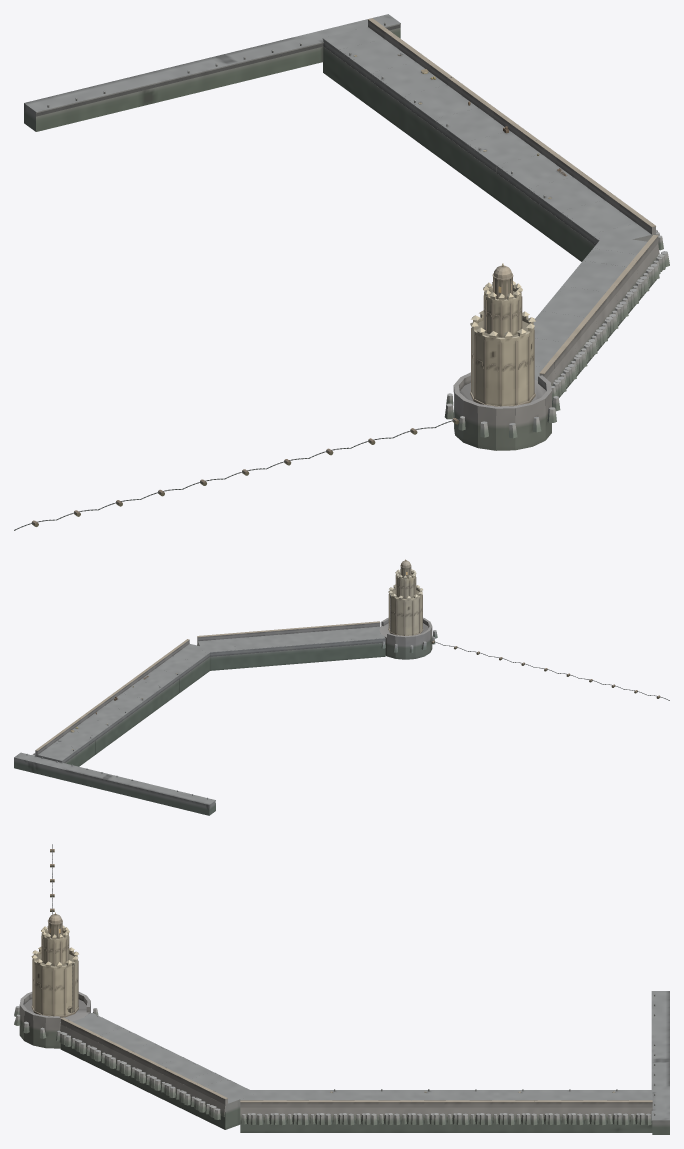
File: mole.glb
3 renders of one model, top to bottom at view 1: azimuth 30°, elevation 25°; view 2: azimuth 150°, elevation 25°; view 3: azimuth 270°, elevation 25°, orthographic. The views are drawn at different scales.
Parts seen in each view (by area): view 1: mole_head.001, gold_stage_1.001, gold_stage_2.001, mole_8.016, mole_8.008, mole_8.018, mole_8.006, mole_8.012, mole_8.004, mole_8.014, mole_8.010, mole_8.003 (+29 smaller); view 2: gold_stage_1.001, mole_head.001, mole_8.026, mole_8.024, mole_8.028, mole_8.020, mole_8.022, mole_8.027, mole_8.025, mole_8.023, mole_8.021, mole_8.019 (+19 smaller); view 3: gold_stage_1.001, mole_head.001, mole_8.029, mole_8.014, mole_8.006, mole_8.002, mole_8.008, mole_8.010, mole_8.012, mole_8.016, mole_8.004, mole_8.018 (+21 smaller).
Part boxes in pixels (x1,y1,x2,y2): mole_head.001: [444, 372, 560, 450]; gold_stage_1.001: [470, 310, 535, 406]; gold_stage_2.001: [483, 281, 522, 337]; mole_8.016: [354, 41, 419, 107]; mole_8.008: [480, 133, 545, 199]; mole_8.018: [322, 18, 387, 84]; mole_8.006: [511, 156, 576, 222]; mole_8.012: [417, 87, 482, 153]; mole_8.004: [543, 179, 608, 245]; mole_8.014: [385, 64, 451, 130]; mole_8.010: [448, 110, 514, 176]; mole_8.003: [559, 191, 623, 256]; gold_stage_1.001: [388, 584, 423, 635]; mole_head.001: [379, 617, 437, 659]; mole_8.026: [247, 630, 269, 667]; mole_8.024: [280, 628, 302, 664]; mole_8.028: [214, 633, 236, 669]; mole_8.020: [346, 622, 368, 659]; mole_8.022: [313, 625, 335, 661]; mole_8.027: [231, 632, 252, 668]; mole_8.025: [264, 629, 285, 665]; mole_8.023: [297, 626, 318, 663]; mole_8.021: [330, 624, 351, 660]; mole_8.019: [363, 621, 385, 657]; gold_stage_1.001: [31, 947, 78, 1017]; mole_head.001: [14, 992, 98, 1048]; mole_8.029: [205, 1086, 256, 1129]; mole_8.014: [537, 1090, 561, 1132]; mole_8.006: [354, 1090, 378, 1132]; mole_8.002: [263, 1090, 286, 1132]; mole_8.008: [400, 1090, 423, 1132]; mole_8.010: [446, 1090, 469, 1132]; mole_8.012: [492, 1090, 515, 1132]; mole_8.016: [583, 1090, 606, 1132]; mole_8.004: [309, 1090, 332, 1132]; mole_8.018: [629, 1090, 652, 1132].
Size of the model in its own units: 228 by 45.53 by 223.
